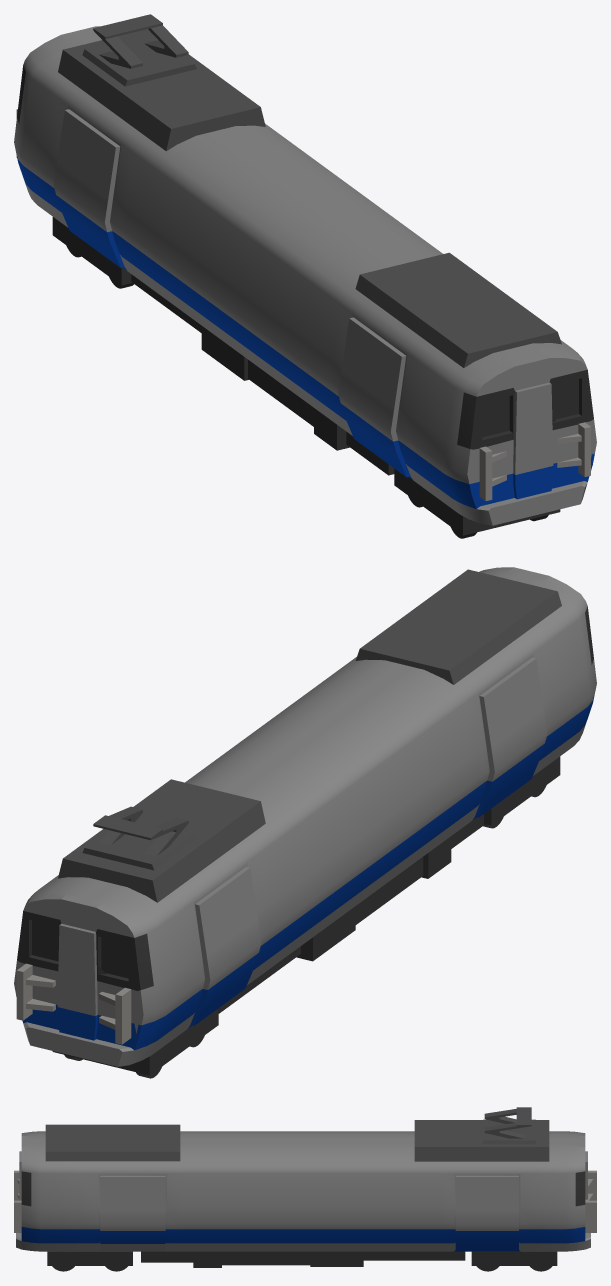
The model's file is blueline.fbx.
The picture shows the model from 3 angles, top to bottom: view 1: azimuth 30°, elevation 25°; view 2: azimuth 150°, elevation 25°; view 3: azimuth 270°, elevation 25°; orthographic projection. The views are drawn at different scales.
Parts seen in each view (by area): view 1: Cube.010, Cube.012, Cylinder.006, Cube.009; view 2: Cube.010, Cube.012, Cylinder.006, Cube.009; view 3: Cube.010, Cylinder.006, Cube.012, Cube.009.
Part boxes in pixels (x1,y1,x2,y2): Cube.010: (14, 26, 596, 525); Cube.012: (82, 14, 196, 86); Cylinder.006: (52, 217, 560, 538); Cube.009: (16, 109, 590, 500); Cube.010: (14, 567, 596, 1066); Cube.012: (82, 806, 196, 870); Cylinder.006: (52, 756, 560, 1078); Cube.009: (16, 963, 131, 1044); Cube.010: (16, 1120, 590, 1267); Cylinder.006: (47, 1251, 557, 1271); Cube.012: (483, 1107, 535, 1144); Cube.009: (14, 1170, 596, 1232).
Size of the model in its own units: 506 by 710 by 2622.
